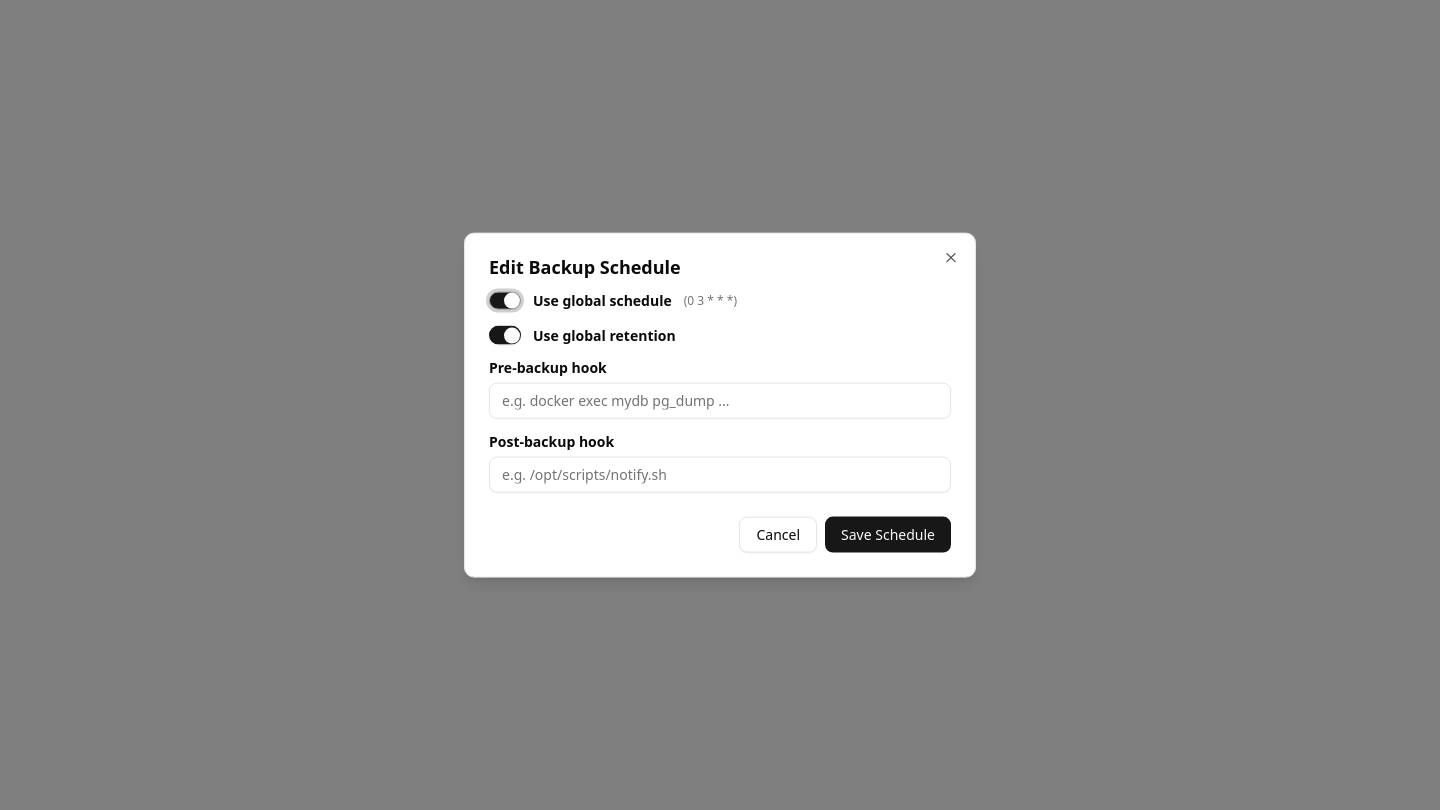
BackupScheduleDialog › reveals the cron input only when the global-schedule switch is toggled off
This screenshot has width=1440, height=810.
Click the switch named "use global schedule" next to "Use global schedule" at (505, 301), box [489,292,521,310]
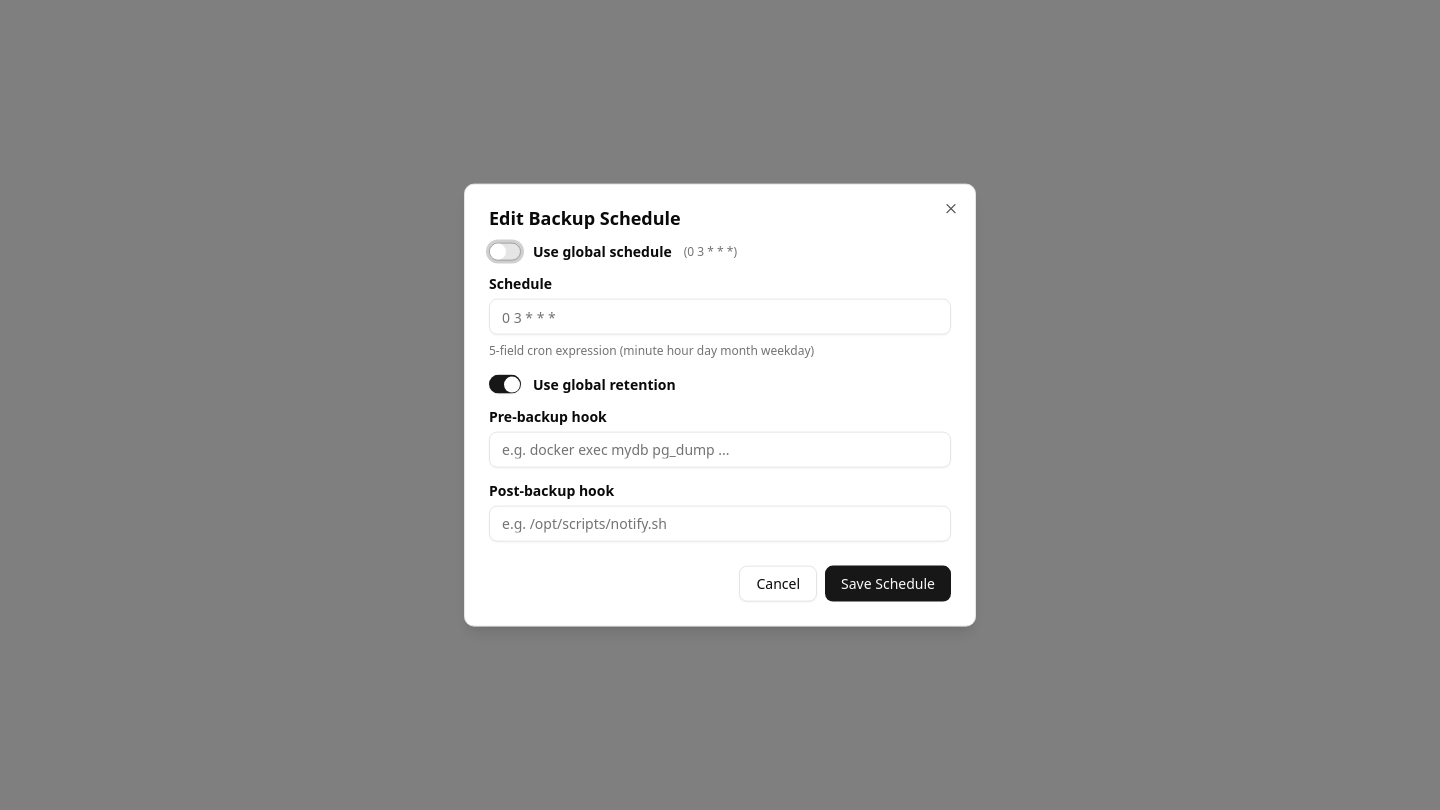
Expected: the field labelled "Schedule" is shown, [489,299,951,335]
